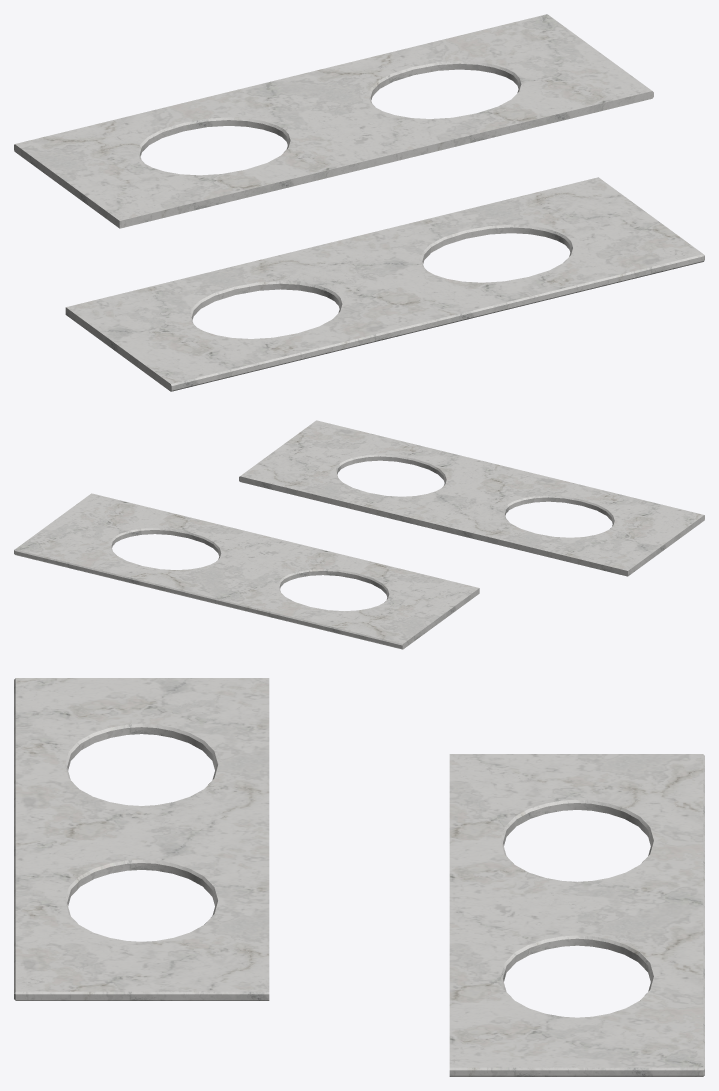
The model's file is 2345_bathroom_CounterTops_QuartzCalacattaKarmelo.gltf.
The picture shows the model from 3 angles, top to bottom: view 1: azimuth 30°, elevation 25°; view 2: azimuth 150°, elevation 25°; view 3: azimuth 270°, elevation 25°; orthographic projection. The views are drawn at different scales.
Parts seen in each view (by area): view 1: Line23784; view 2: Line23784; view 3: Line23784.
Boxes of the visible parts, box(x1,y1,x2,y2) form: Line23784: box(14, 14, 704, 391); Line23784: box(14, 420, 704, 649); Line23784: box(14, 678, 704, 1076).
Size of the model in its own units: 3.6 by 0.04 by 2.7.
1 material, 1 textured.
